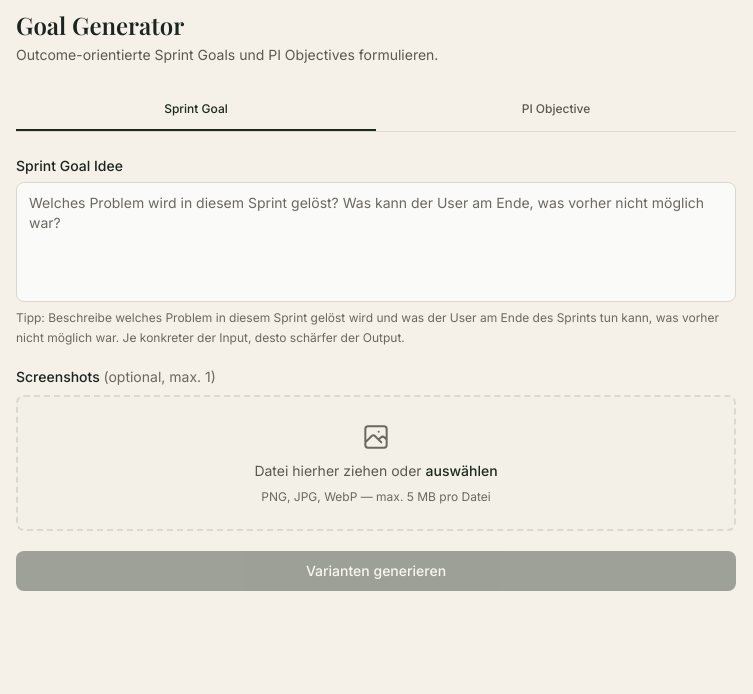
GoalGeneratorPage — Tab-Wechsel › wechselt auf PI Objective ohne Dialog wenn kein Inhalt
Click the tab "PI Objective" at (556, 110), box top-left (376, 89), bottom-right (736, 131)
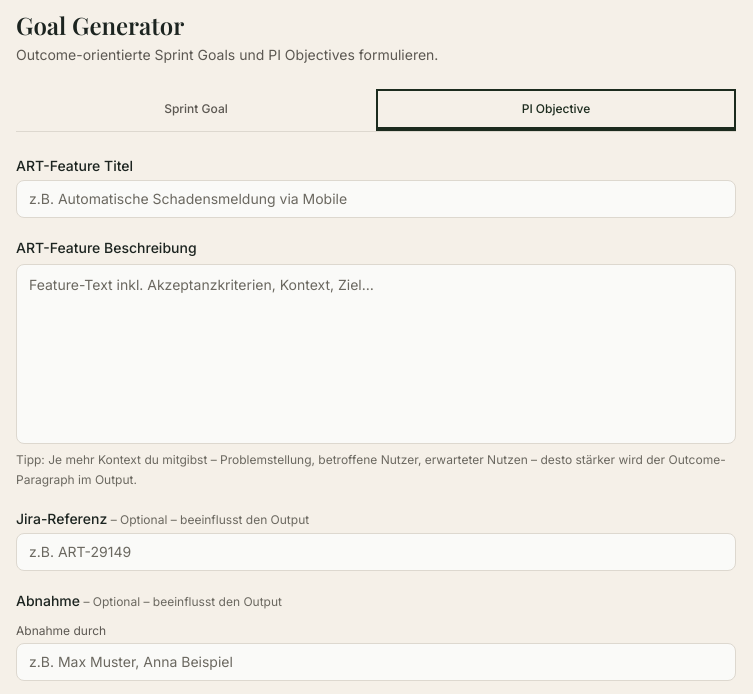
Check: the field labelled "ART-Feature Titel" is shown, box top-left (16, 180), bottom-right (736, 218)
